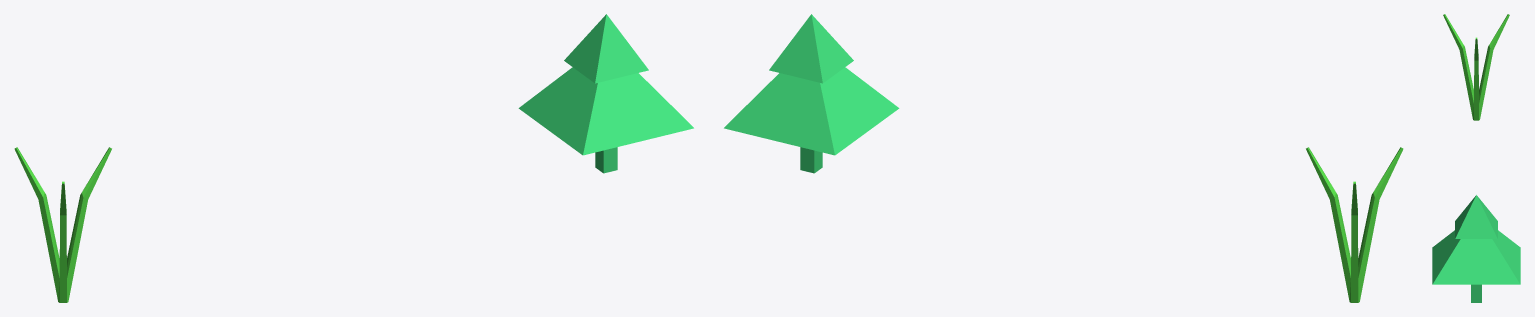
The model's file is grass1.glb.
The picture shows the model from 3 angles, left to right: view 1: azimuth 30°, elevation 25°; view 2: azimuth 150°, elevation 25°; view 3: azimuth 270°, elevation 25°; orthographic projection. The views are drawn at different scales.
Parts seen in each view (by area): view 1: Cube.001, Cube; view 2: Cube.001, Cube; view 3: Cube.001, Cube.
Part boxes in pixels (x1,y1,x2,y2): Cube.001: (518, 14, 693, 173); Cube: (14, 147, 111, 302); Cube.001: (724, 14, 899, 173); Cube: (1306, 147, 1403, 302); Cube.001: (1432, 195, 1520, 302); Cube: (1443, 14, 1509, 120).
Bounding box in the file's own units: 4.6 × 1.09 × 0.8225.
